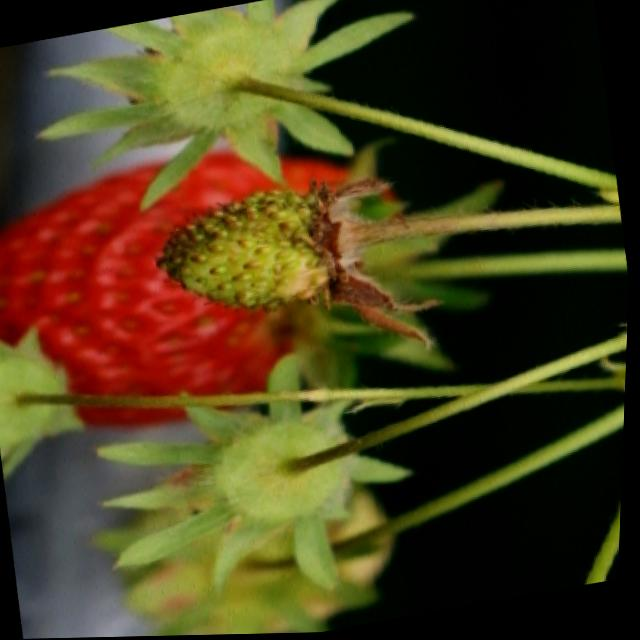Gray Mold: (301, 175, 440, 351)
